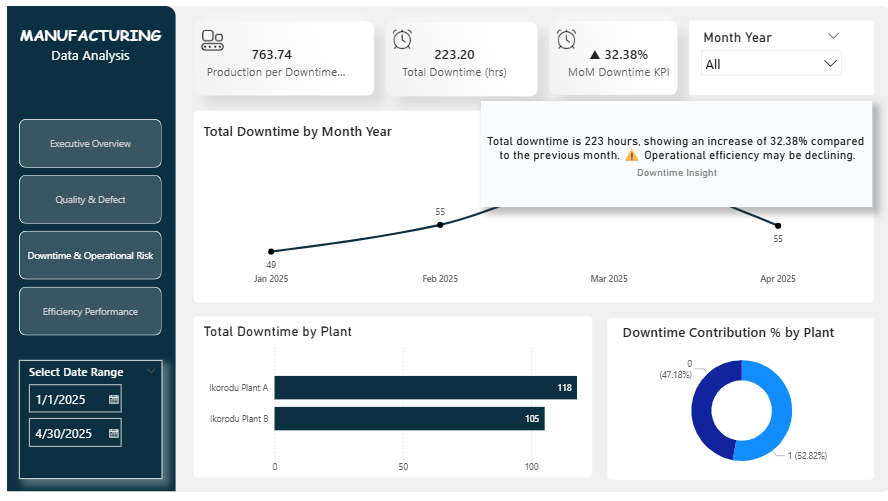

What the dashboard file says about the page in this screenshot:
{"tool":"powerbi","page":{"name":"Downtime & Operational Risk","canvas":[1280,720],"ordinal":2},"visuals":[{"type":"textbox","box":[11.2,20.9,238.6,100.5],"z":0},{"type":"slicer","fields":{"Values":["Date_Table.Date"]},"box":[30.6,512.7,200.3,166.4],"z":1000},{"type":"lineChart","fields":{"Y":["Manufacturing.Total Downtime"],"Category":["Date_Table.Month Year"]},"box":[282.6,179.5,906,237.7],"z":2000},{"type":"clusteredBarChart","fields":{"Category":["Manufacturing.Plant"],"Y":["Manufacturing.Total Downtime"]},"box":[282.6,460.5,548.6,219.4],"z":3000},{"type":"donutChart","fields":{"Category":["Manufacturing.Plant"],"Y":["Manufacturing.Downtime Contribution %"]},"box":[867.7,460.5,342.4,219.4],"z":4000},{"type":"cardVisual","fields":{"Data":["Manufacturing.Production per Downtime Hour"]},"box":[251,21.6,266,149.6],"z":5000},{"type":"cardVisual","fields":{"Data":["Manufacturing.Total Downtime (hrs)"]},"box":[533.6,21.6,211.1,149.6],"z":6000},{"type":"cardVisual","fields":{"Data":["Manufacturing.MoM Downtime KPI"]},"box":[763,21.6,209.5,149.6],"z":7000},{"type":"slicer","fields":{"Values":["Date_Table.Month Year"]},"box":[972.5,46.5,216.1,86.4],"z":8000},{"type":"pageNavigator","box":[30.7,176.3,199.3,302.8],"z":9000},{"type":"card","fields":{"Values":["Manufacturing.Downtime Insight"]},"box":[675.3,150.7,545.6,147.9],"z":10000}]}

Visuals, with their boxes in screenshot pixels (x1, y1, x2, y2), scaled from the page's 1280x720 canvas onto the 888x501 screenshot:
textbox: x1=8, y1=15, x2=173, y2=84
slicer - Date_Table.Date: x1=21, y1=357, x2=160, y2=473
lineChart - Manufacturing.Total Downtime x Date_Table.Month Year: x1=196, y1=125, x2=825, y2=290
clusteredBarChart - Manufacturing.Plant x Manufacturing.Total Downtime: x1=196, y1=320, x2=577, y2=473
donutChart - Manufacturing.Plant x Manufacturing.Downtime Contribution %: x1=602, y1=320, x2=840, y2=473
cardVisual - Manufacturing.Production per Downtime Hour: x1=174, y1=15, x2=359, y2=119
cardVisual - Manufacturing.Total Downtime (hrs): x1=370, y1=15, x2=517, y2=119
cardVisual - Manufacturing.MoM Downtime KPI: x1=529, y1=15, x2=675, y2=119
slicer - Date_Table.Month Year: x1=675, y1=32, x2=825, y2=92
pageNavigator: x1=21, y1=123, x2=160, y2=333
card - Manufacturing.Downtime Insight: x1=468, y1=105, x2=847, y2=208
